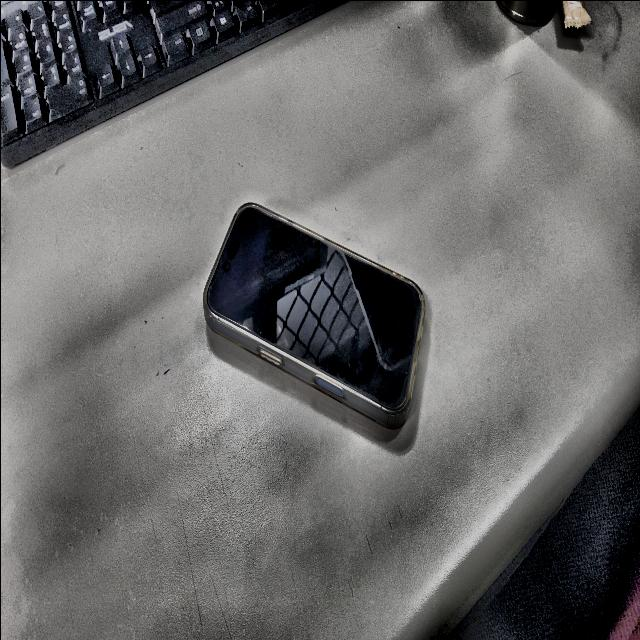Keyboard: (0, 0, 345, 166)
PHONE: (203, 203, 423, 426)
